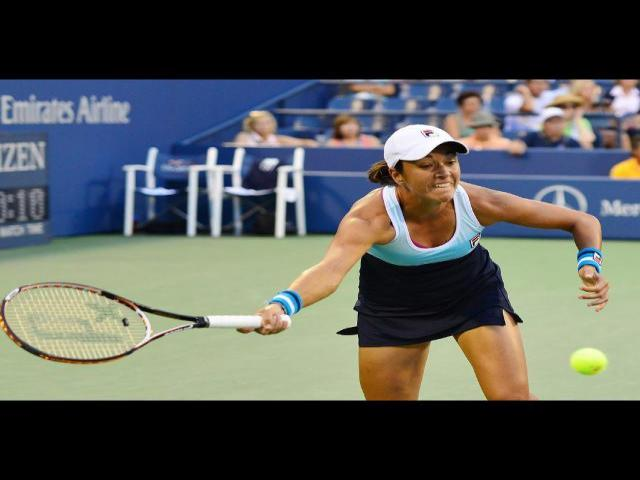tennis-ball: (570, 348, 608, 376)
